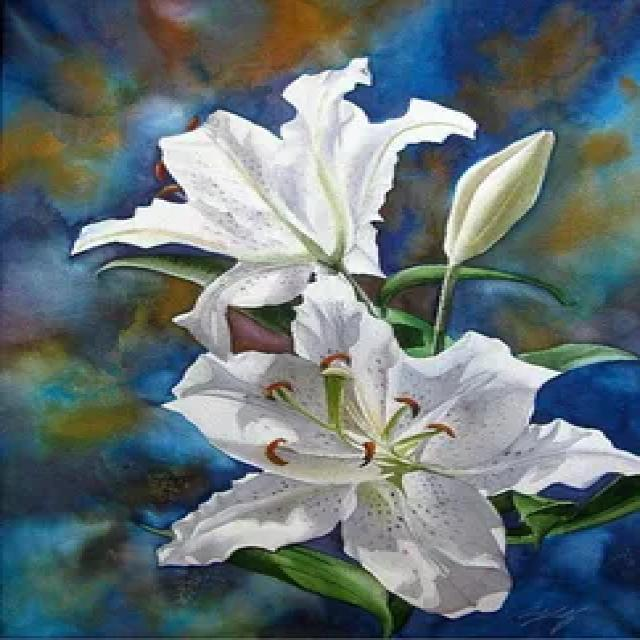lily: (140, 258, 640, 640)
